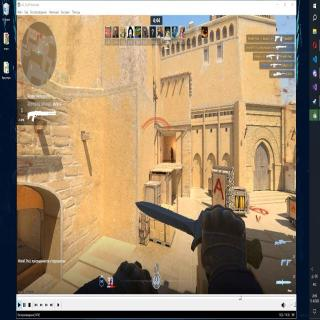CT-Body: (169, 147, 175, 163)
CT-Head: (170, 147, 173, 151)
